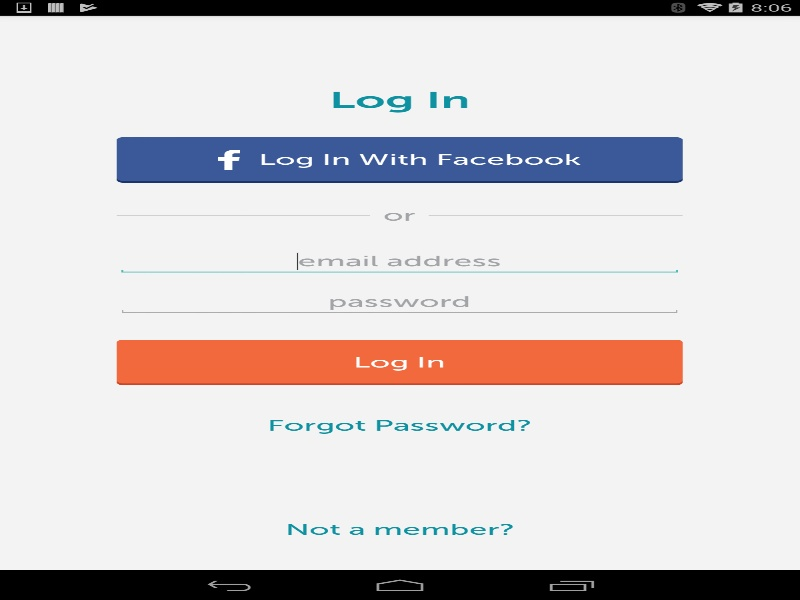Input: (116, 248, 682, 274), (116, 289, 682, 315)
